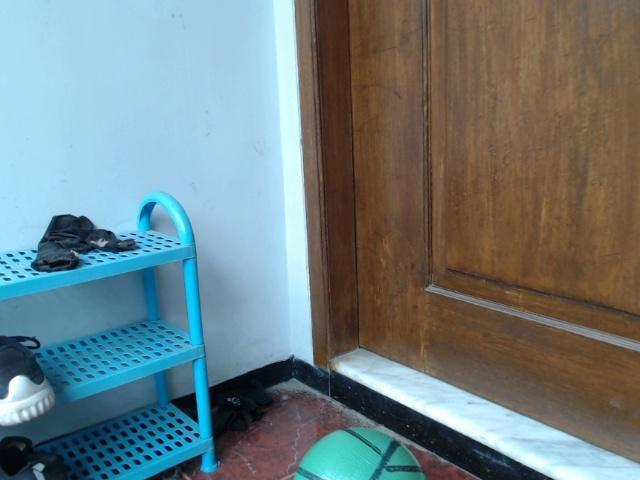Sports-Ball: (292, 421, 431, 480)
